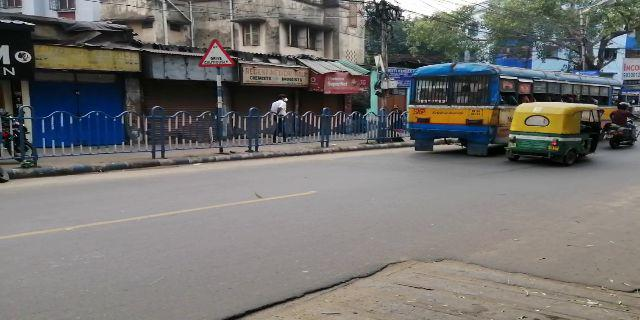Autorickshaw: (511, 105, 604, 158)
Bus: (409, 73, 613, 148)
Motorbike: (606, 103, 636, 145)
